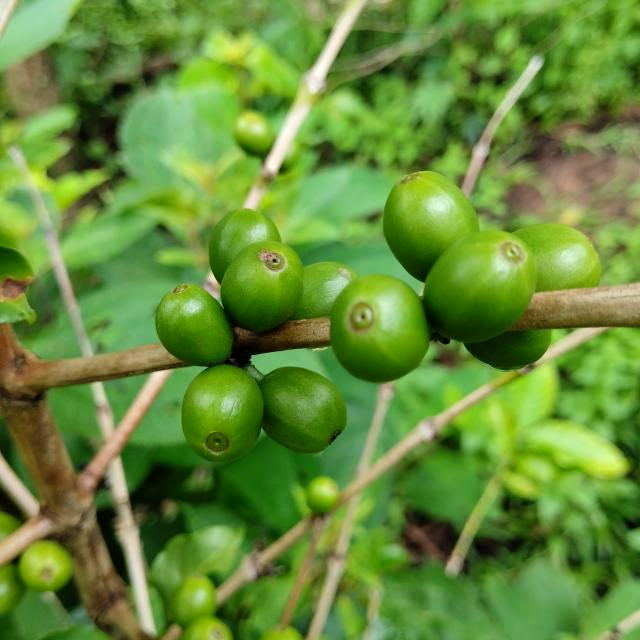green: (424, 230, 538, 343), (383, 170, 480, 282), (330, 275, 430, 383), (181, 365, 263, 463), (259, 367, 347, 454), (220, 241, 304, 332), (155, 284, 233, 367), (514, 223, 602, 292), (209, 208, 281, 283), (289, 262, 357, 321), (465, 330, 552, 371), (18, 541, 71, 593)
